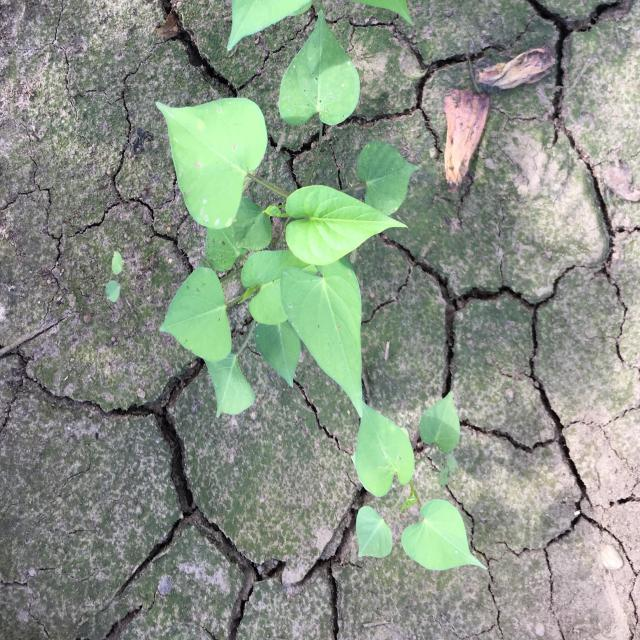MorningGlory: (155, 9, 419, 418), (350, 390, 488, 571), (105, 250, 133, 303)
